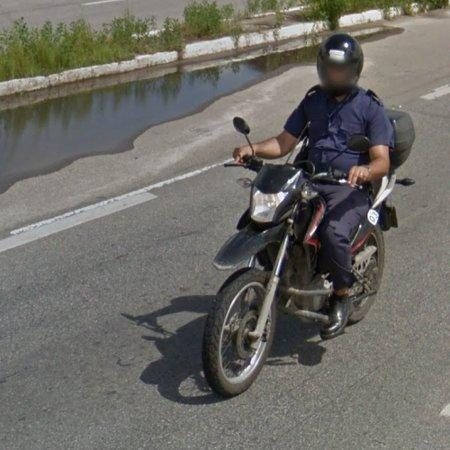motorcycles: (204, 137, 346, 397), (349, 111, 416, 324)
